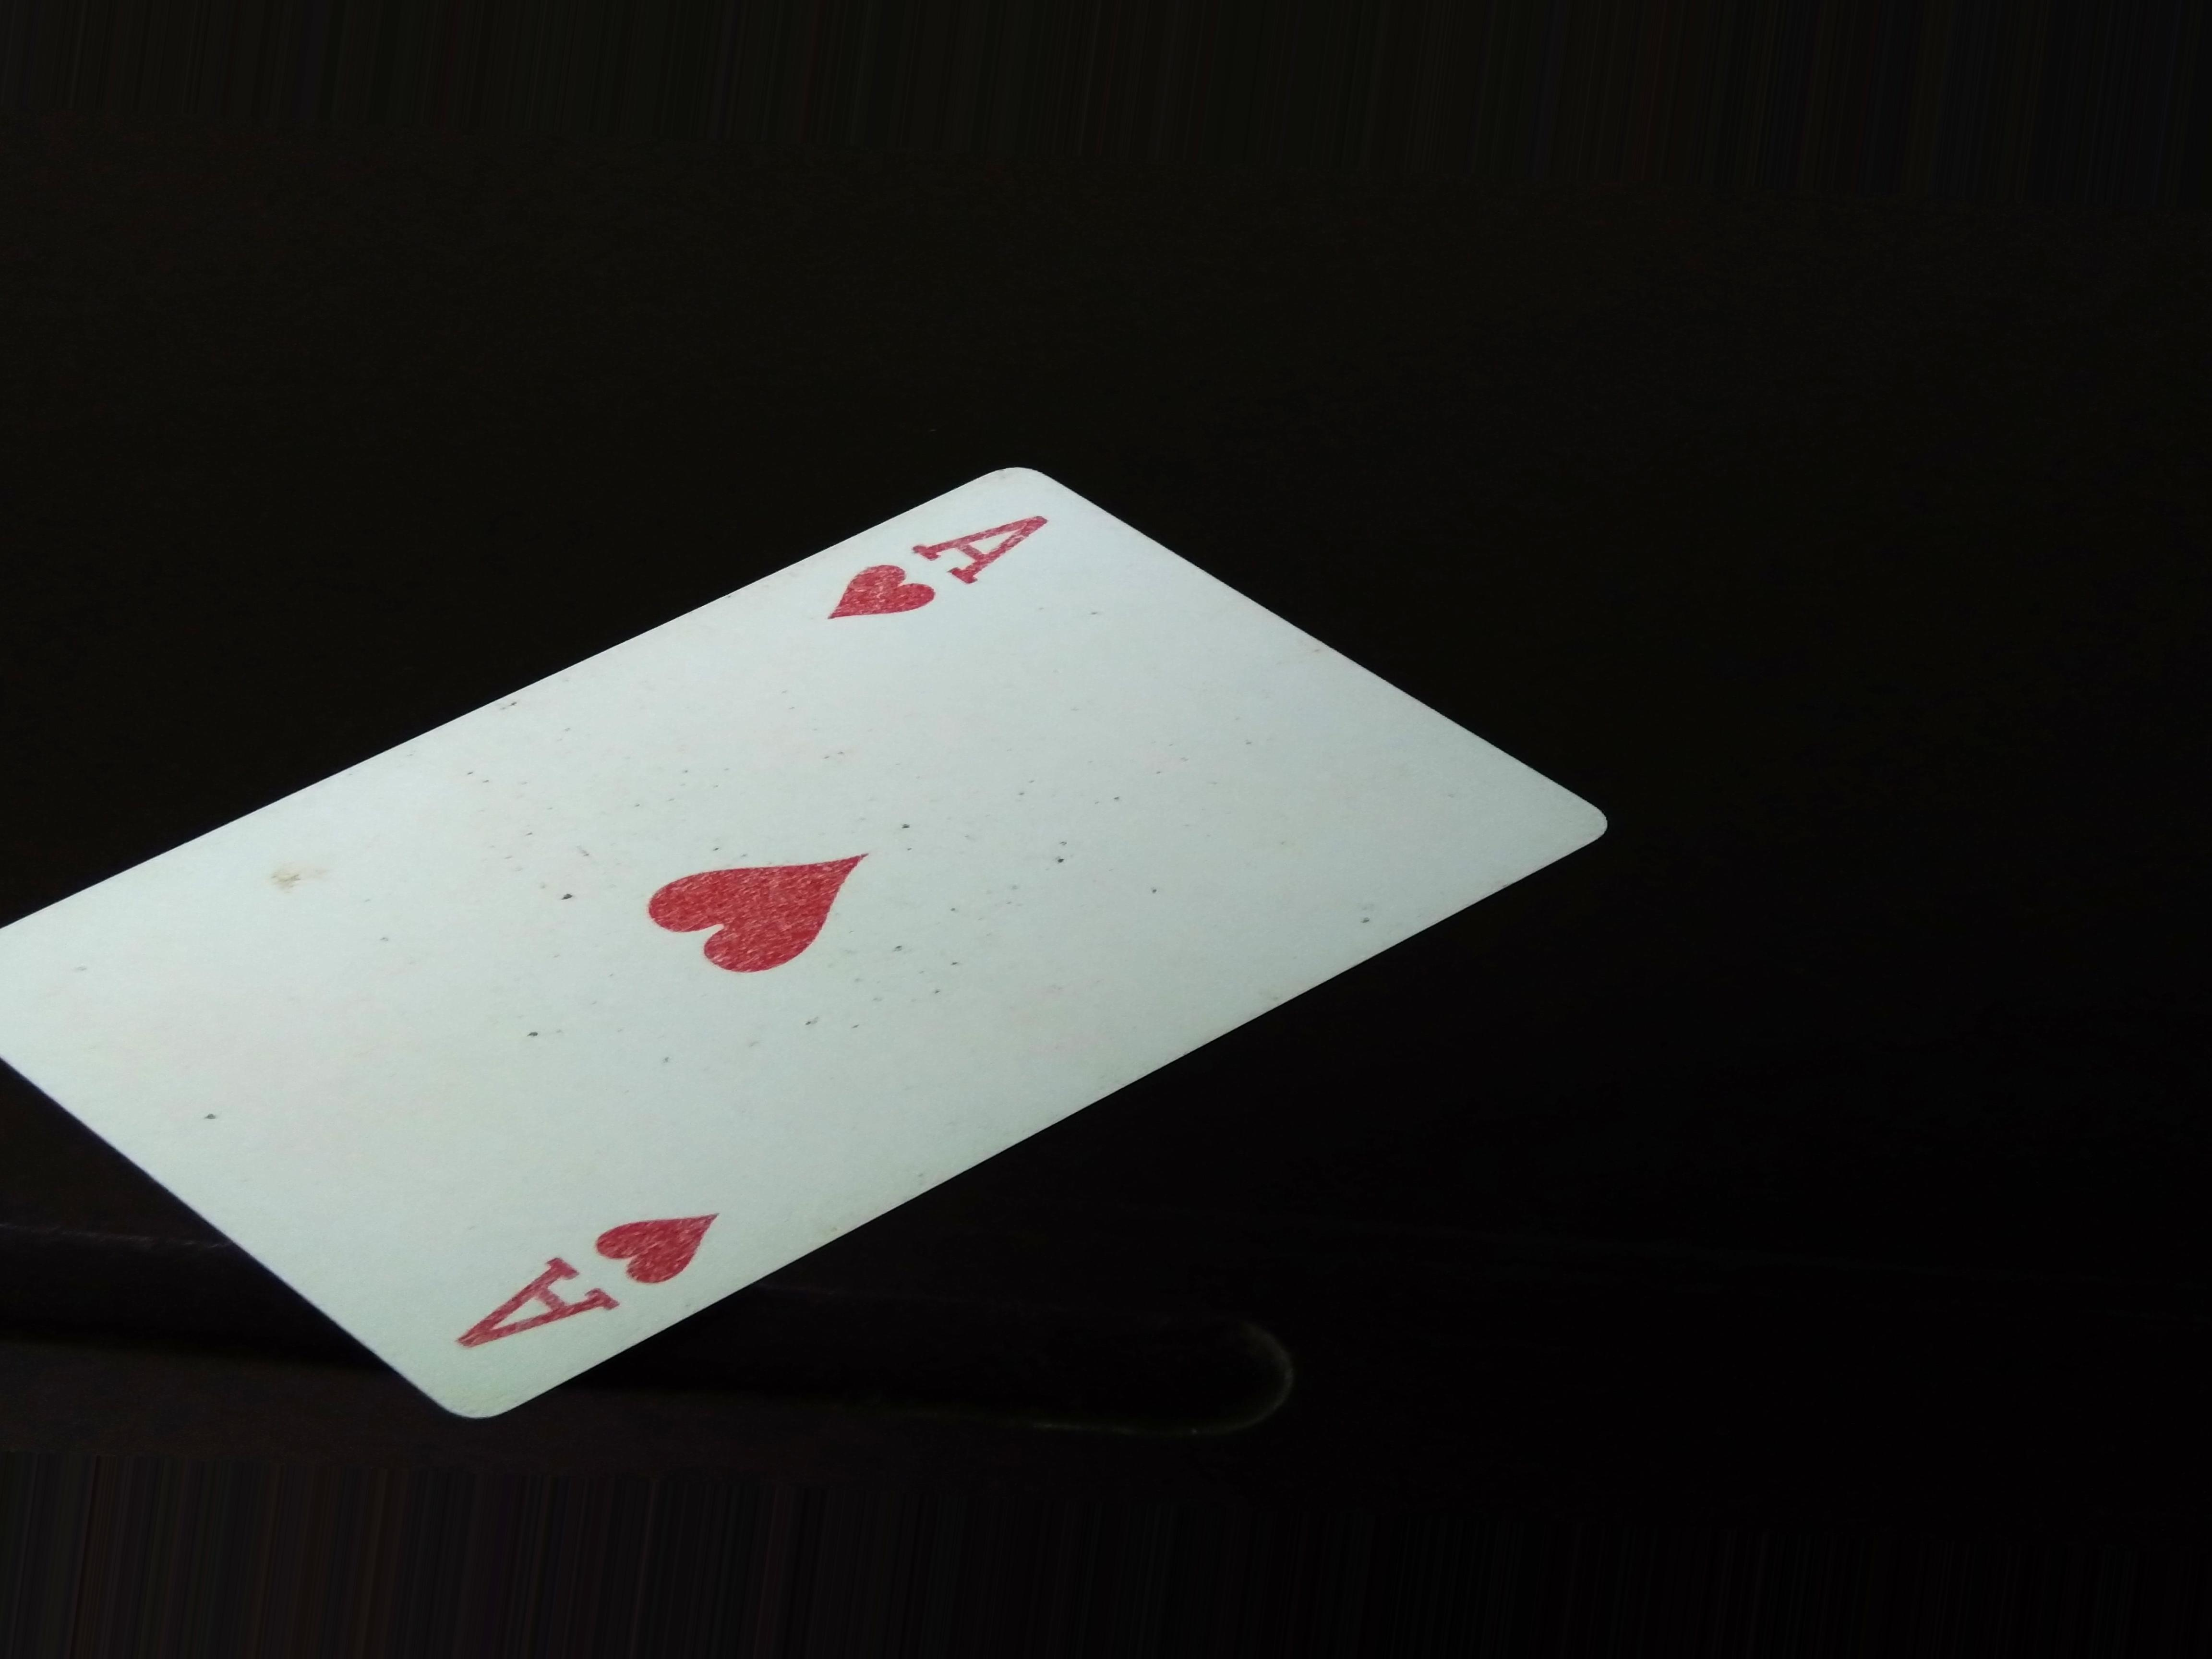AH: (458, 1182, 705, 1361)
